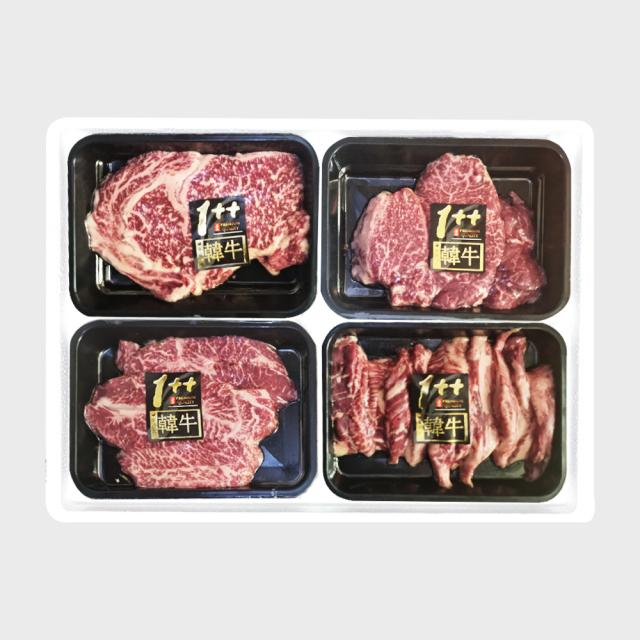beef: (329, 145, 556, 315), (337, 326, 551, 502), (77, 142, 311, 301), (93, 328, 301, 485)
